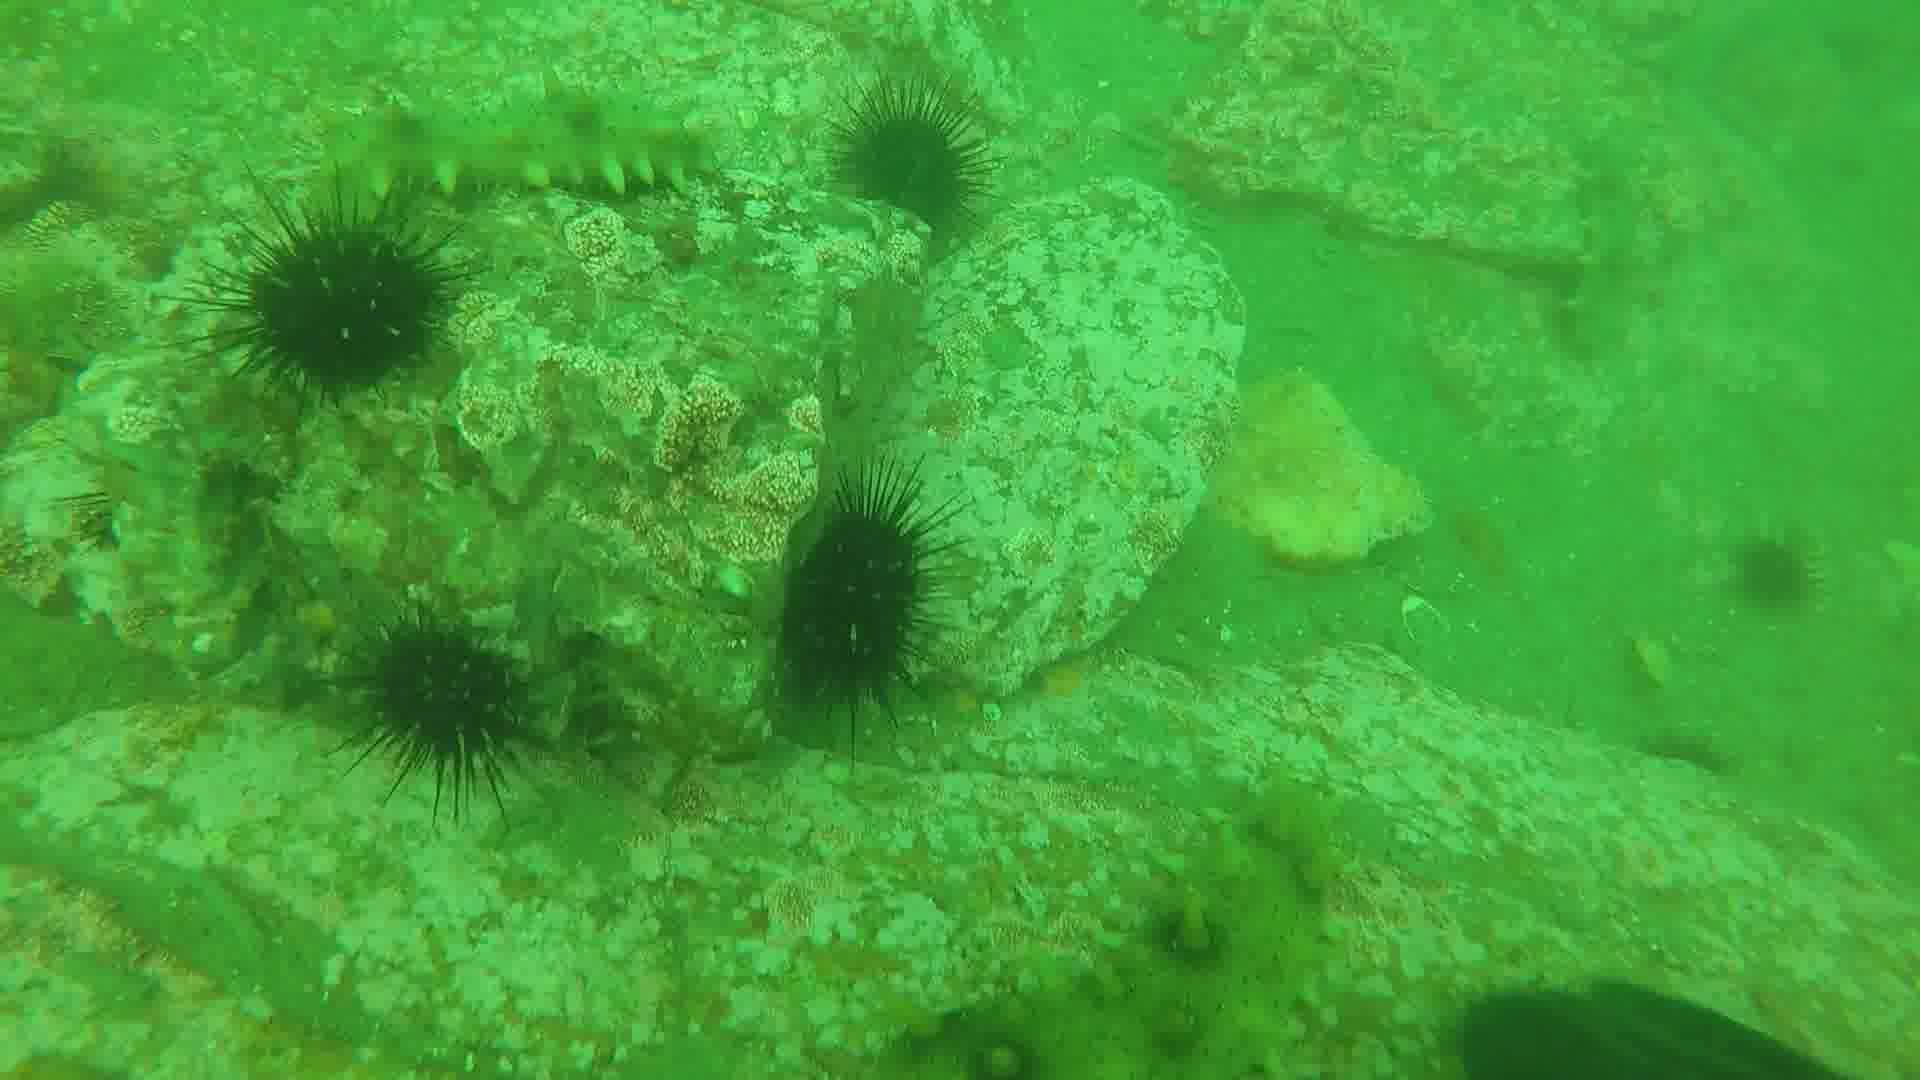echinus: (222, 233, 444, 398), (770, 496, 920, 717), (352, 617, 539, 789), (837, 94, 968, 222), (1742, 545, 1812, 632)
holothurian: (323, 76, 727, 208)
